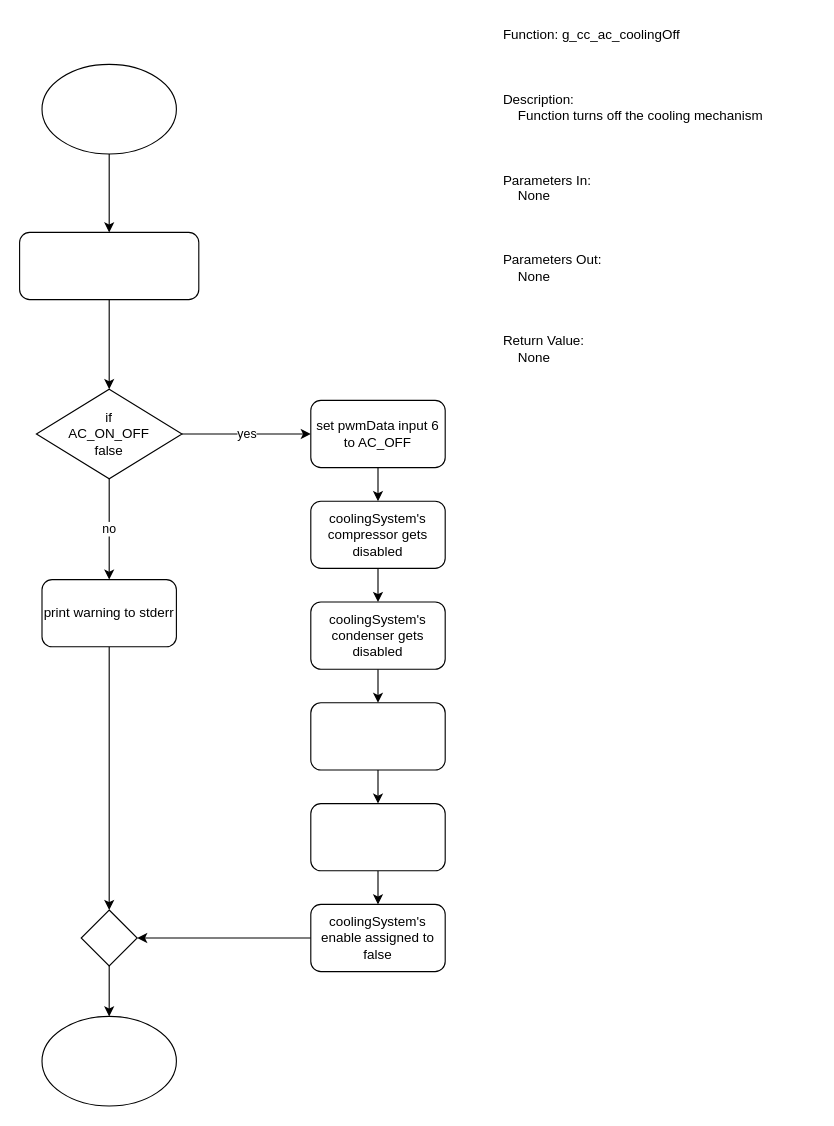
This 834x1126 diagram has some shape labels left out. The shapes that lost their labels are listed below. From the top down, each one's centre as x and y in pixels, then its label:
At point (108, 265): "call g_cc_ac_coolingOff".
At point (377, 736): "coolingSystem's evaporator gets disabled".
At point (377, 836): "coolingSystem's expansion_valve gets disabled".
